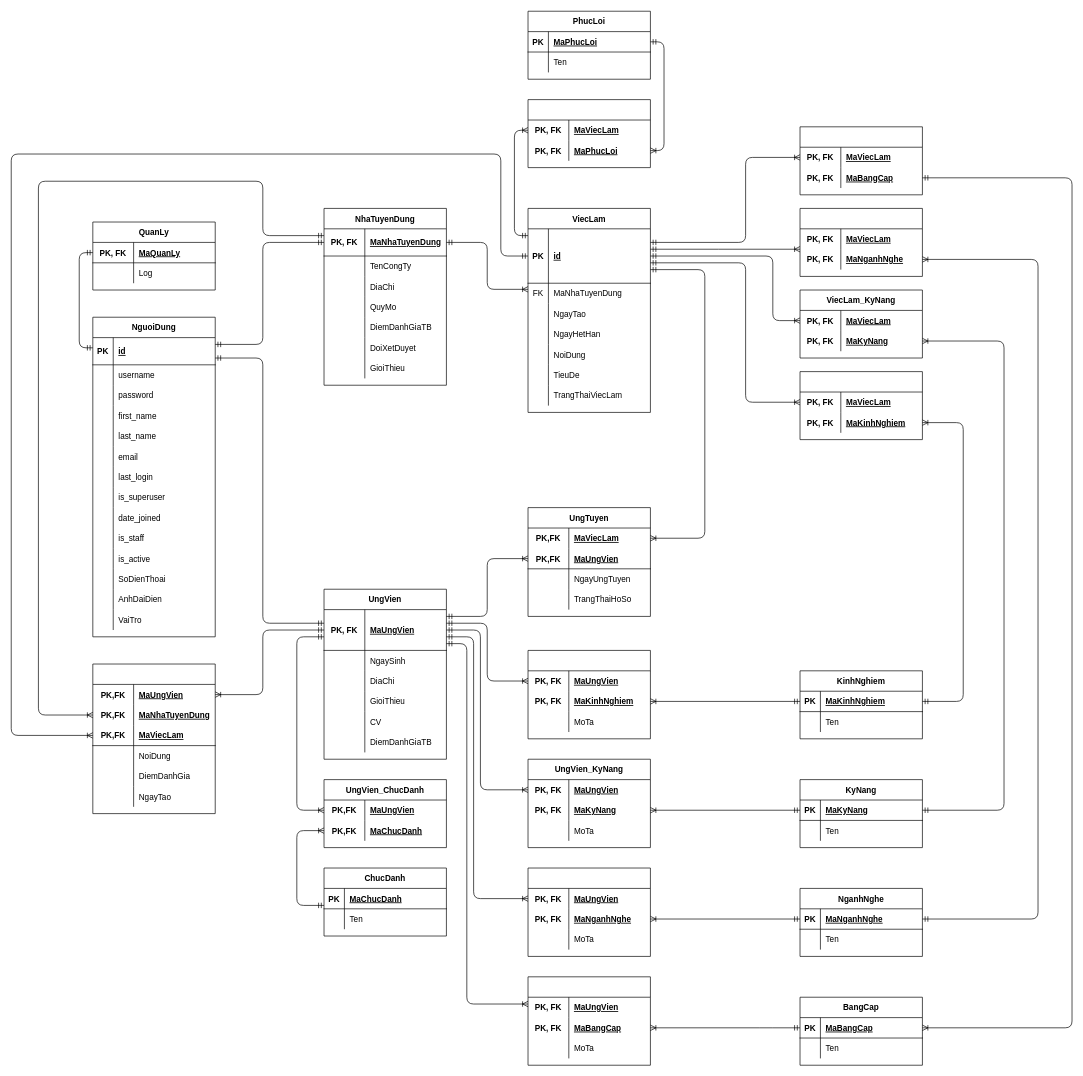
The diagram is 1083 pixels wide and 1076 high, and some of its shapes have lost their labels. The box of each missing label's shape, as (x1, y1, x2, y2) in pixels:
DanhGiaNhaTuyenDung: (92, 663, 215, 814)
UngVien_BangCap: (527, 976, 650, 1065)
UngVien_KinhNghiem: (527, 650, 650, 739)
UngVien_NganhNghe: (527, 867, 650, 956)
ViecLam_BangCap: (799, 126, 922, 195)
ViecLam_KinhNghiem: (799, 371, 922, 440)
ViecLam_NganhNghe: (799, 208, 922, 276)
ViecLam_PhucLoi: (527, 99, 650, 168)
